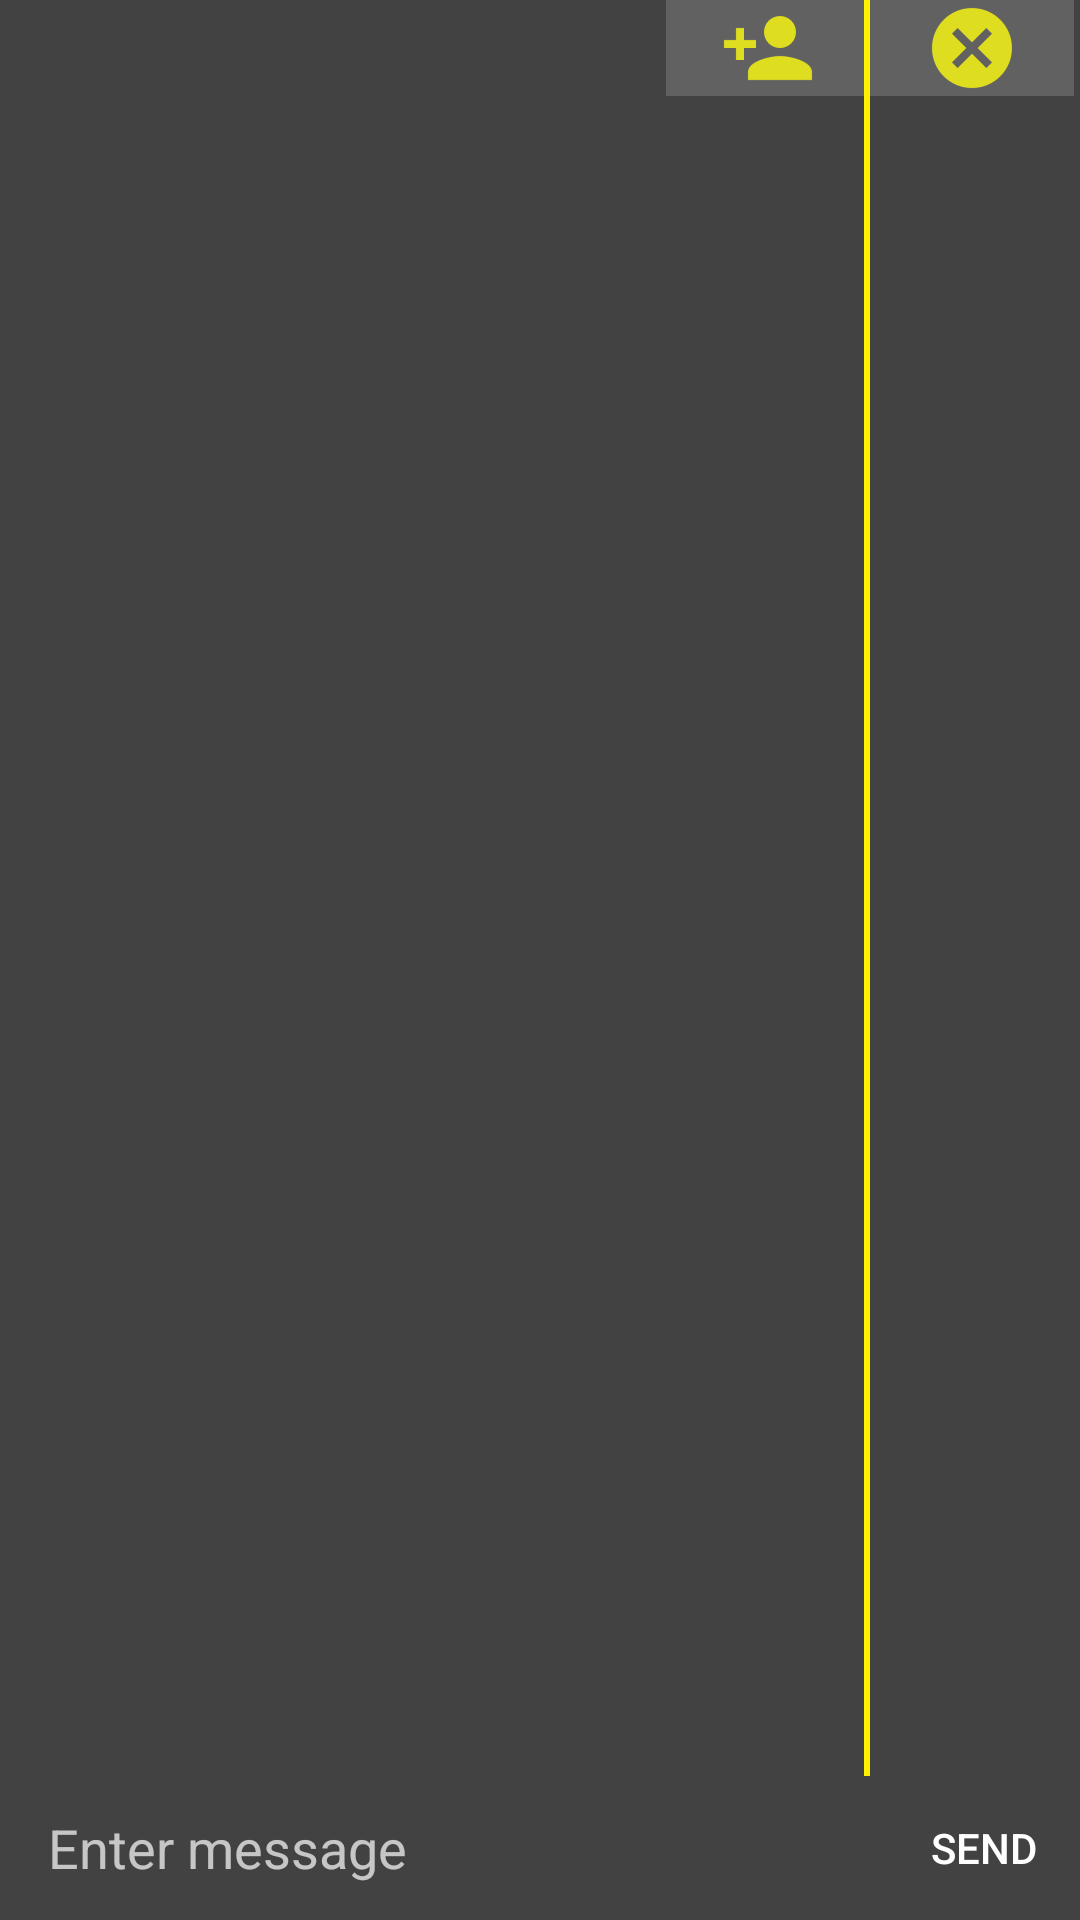

Screen size 1080w x 1920h. Icon name, then its center in pixels as (x=x, y=y):
add friend: (x=768, y=48)
leave conversation: (x=972, y=48)
